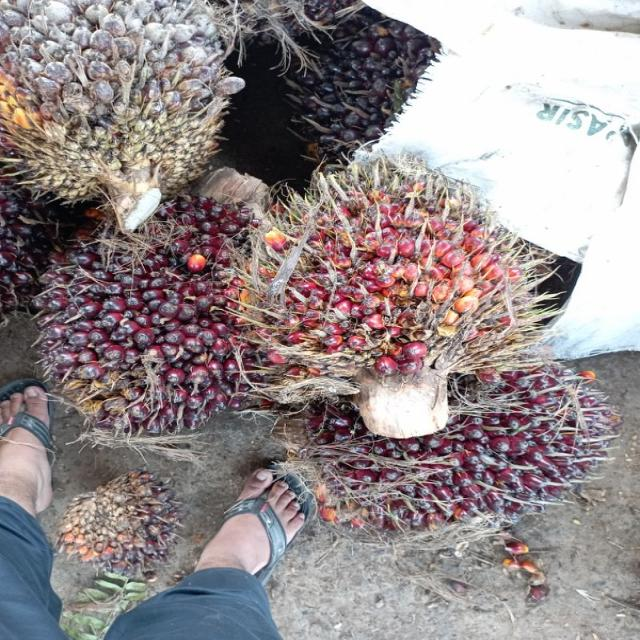fraksi 1: (0, 171, 376, 459)
fraksi 3: (198, 110, 597, 475)
